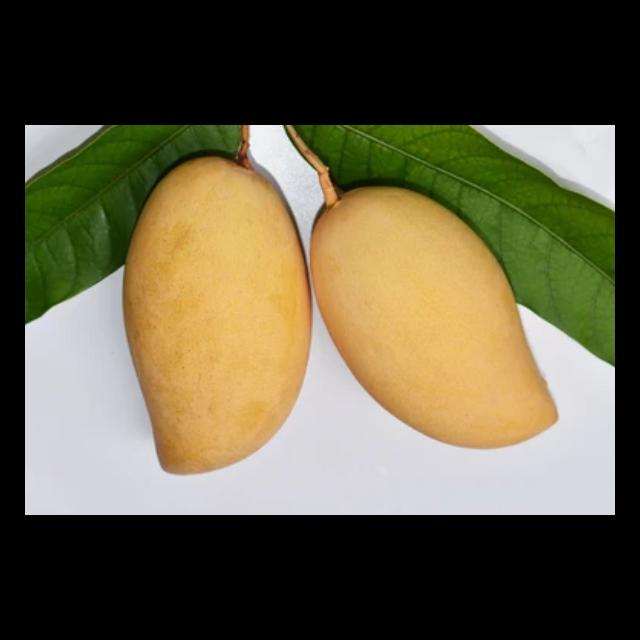mango: (312, 181, 560, 447), (125, 154, 314, 475)
